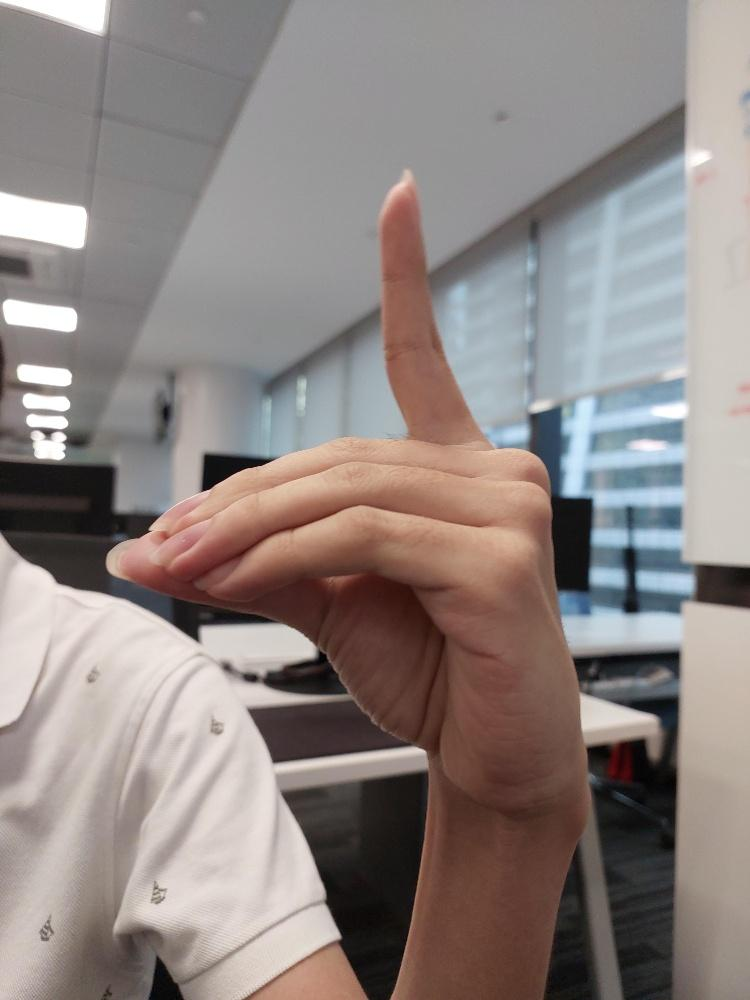d: (106, 169, 586, 814)
